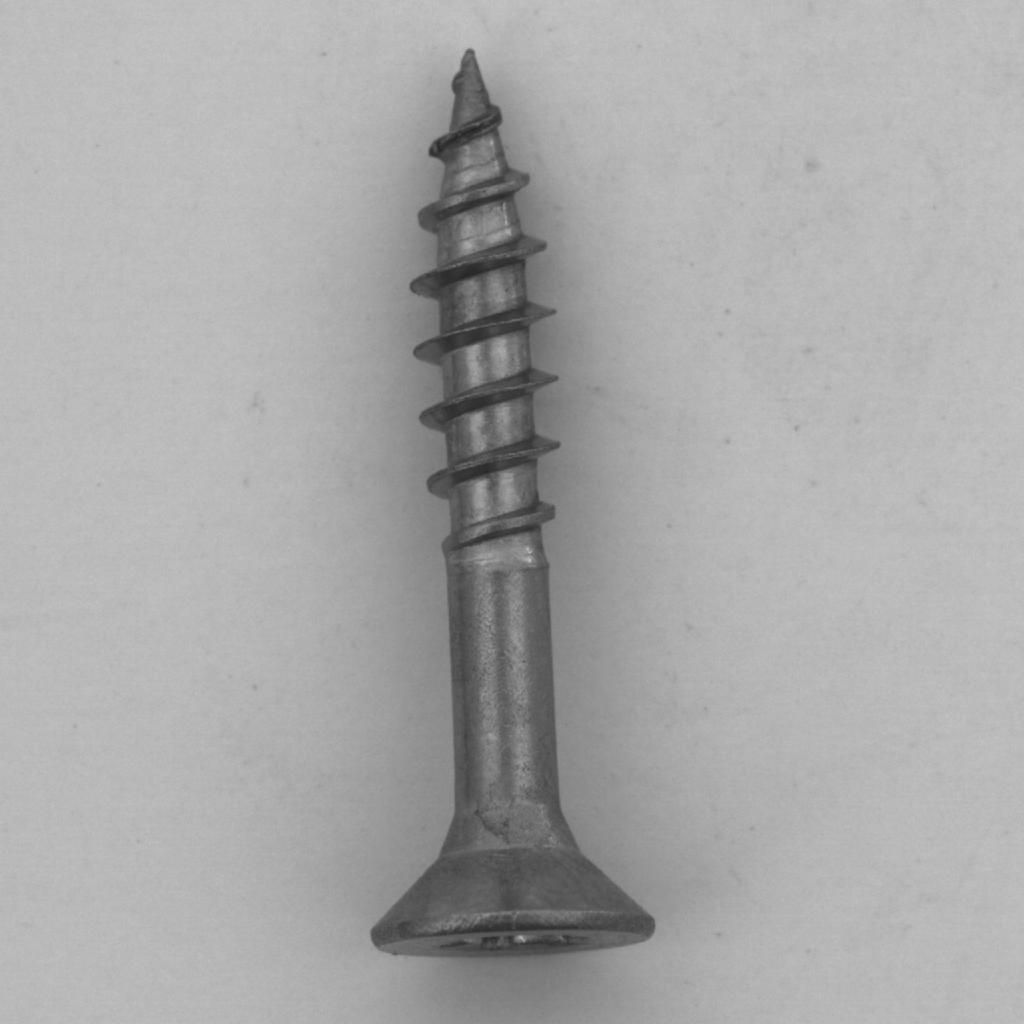good: (349, 30, 673, 975)
